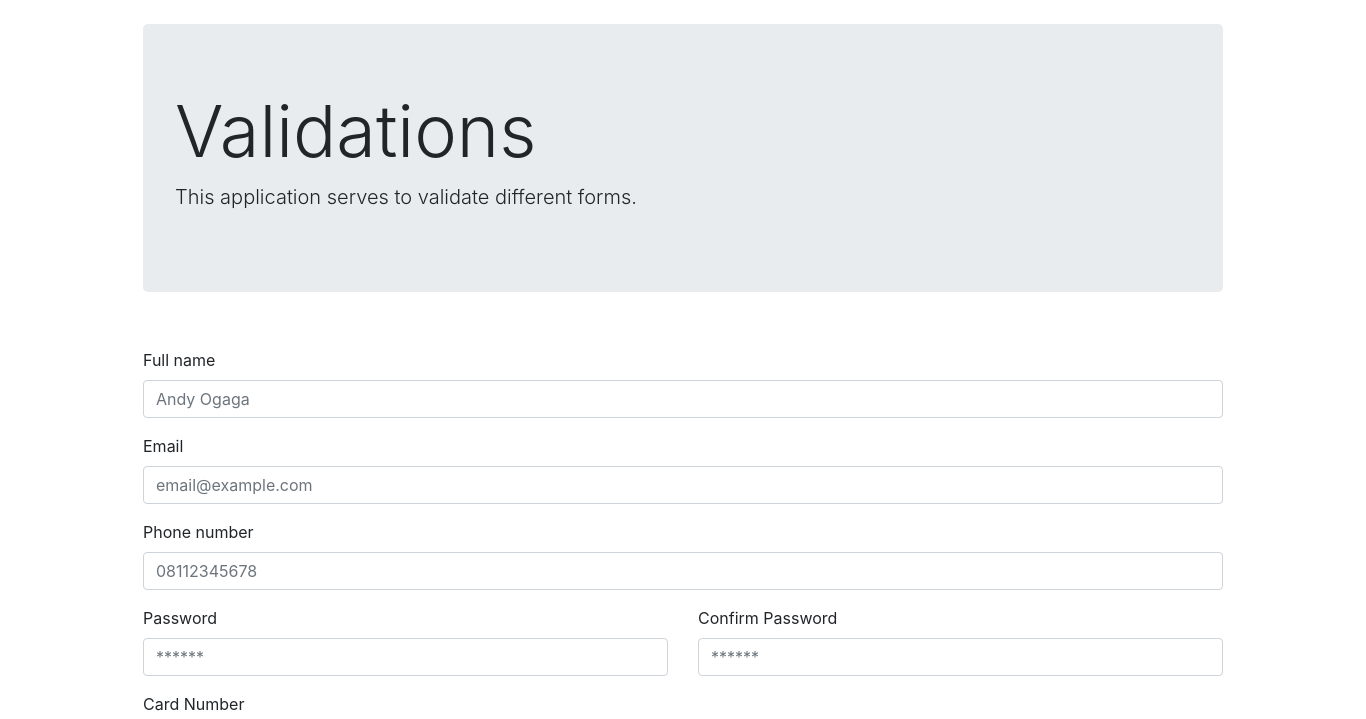
Home Tests › should not accept only one name
Type "Andy" into the field labelled "Full name". click: (683, 399)
box: [143, 380, 1223, 418]
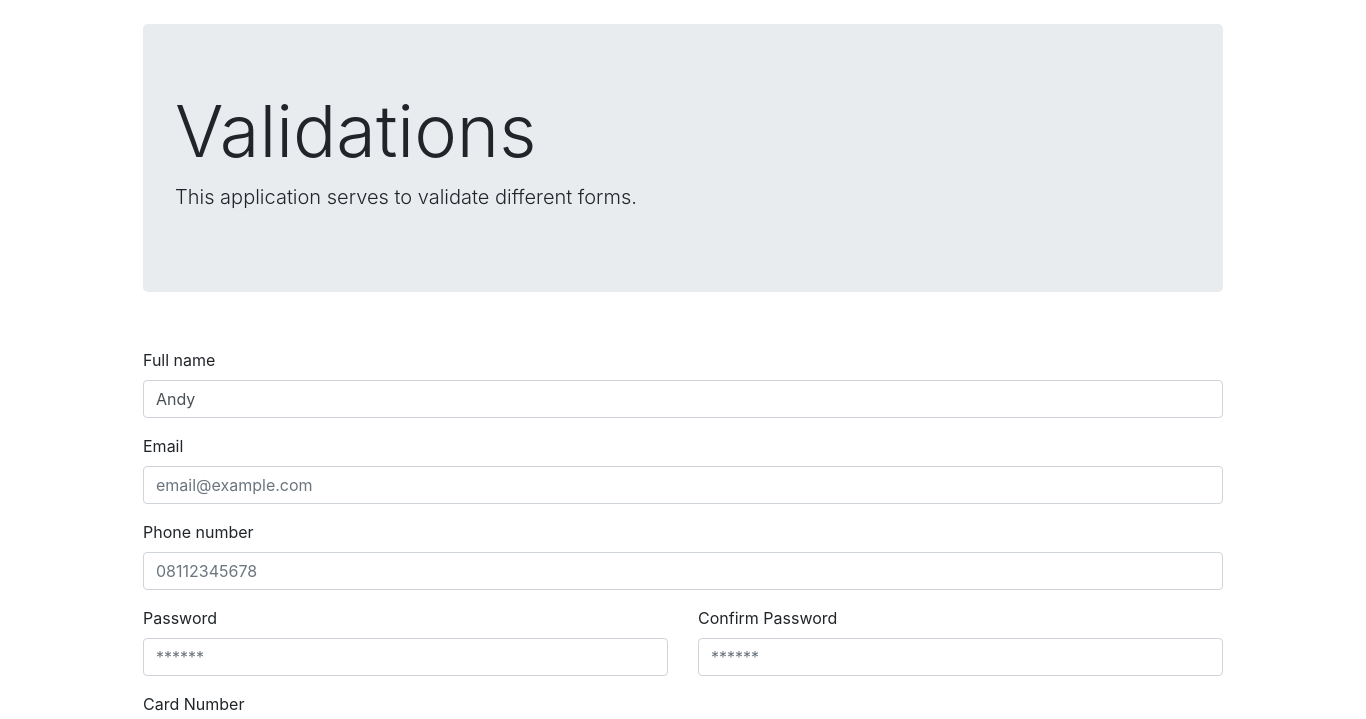
Leave the field labelled "Full name", box [143, 380, 1223, 418]
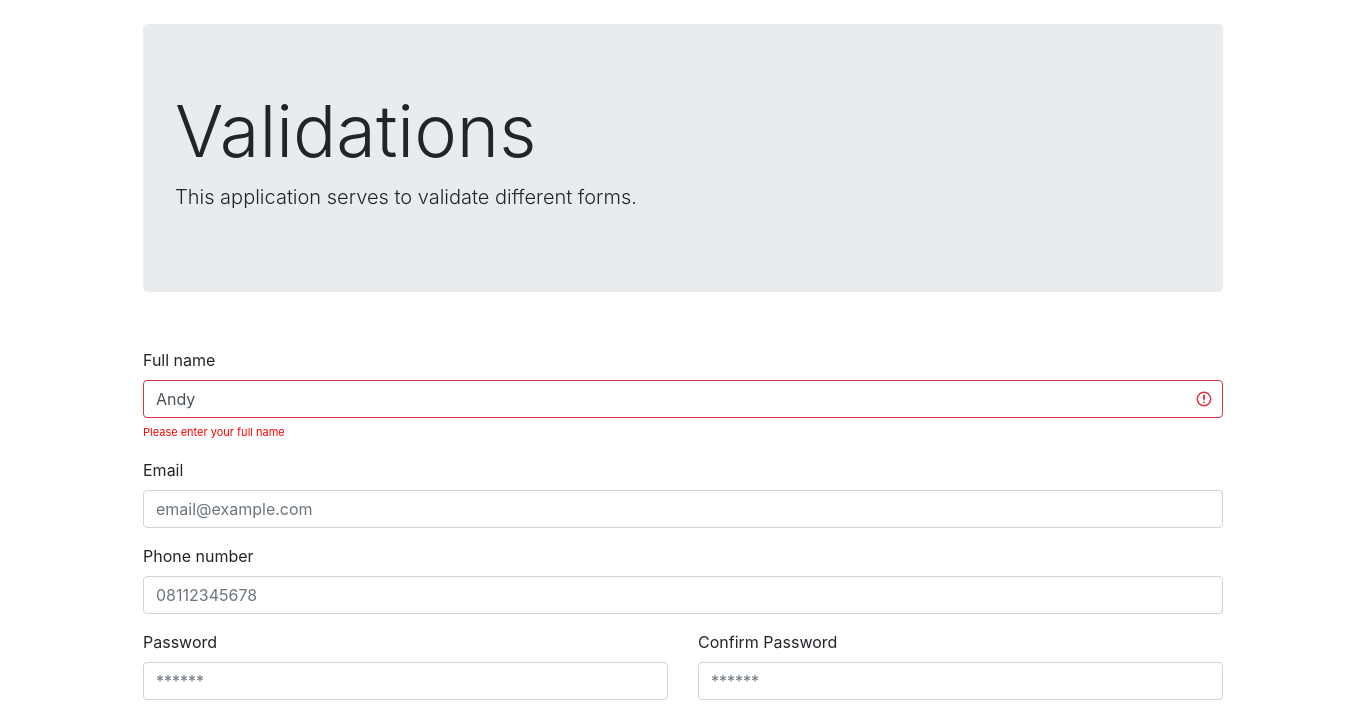
Expected: the text with test id "name-error" reads "Please enter your full name", [143, 425, 285, 439]
